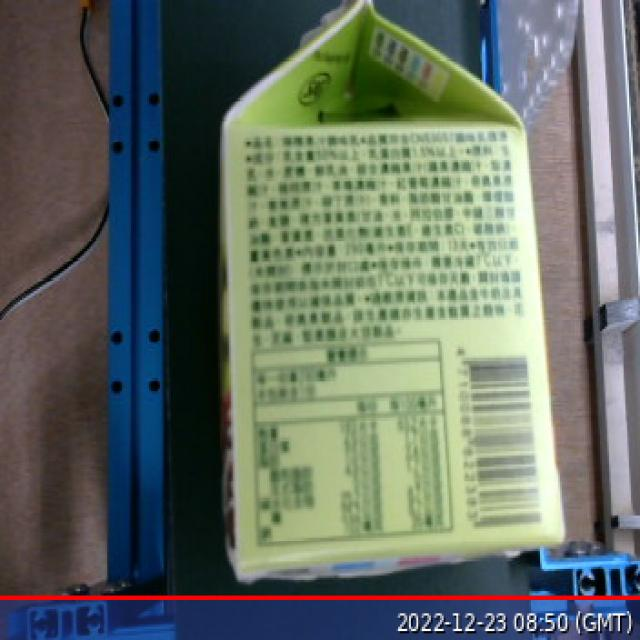non_white_jug: (190, 0, 585, 592)
